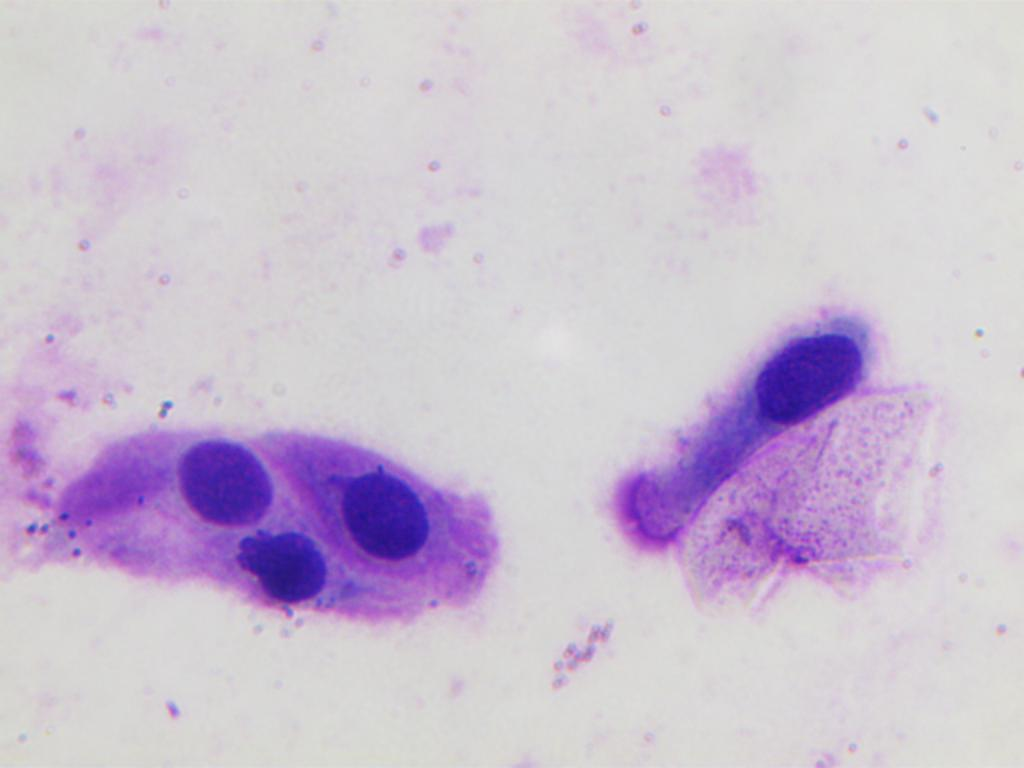ciliated: (620, 332, 866, 562)
epithelial: (168, 433, 278, 528), (340, 468, 430, 559), (230, 531, 326, 602)
